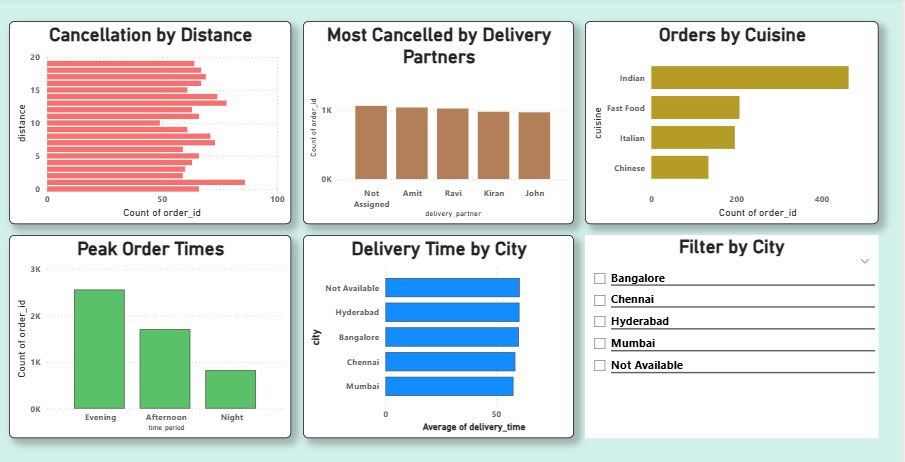

Layout of this report page (visuals, bound fields, positions):
{"tool":"powerbi","page":{"name":"Operational Insights","canvas":[1280,720],"ordinal":1},"visuals":[{"type":"barChart","title":"Cancellation by Distance","fields":{"Category":["food_delivery_master.distance"],"Y":["CountNonNull(food_delivery_master.order_id)"]},"box":[16,32,400,288],"z":0},{"type":"clusteredColumnChart","title":"Most Cancelled by Delivery Partners","fields":{"Category":["food_delivery_master.delivery_partner"],"Y":["CountNonNull(food_delivery_master.order_id)"]},"box":[432,32,384,288],"z":1000},{"type":"columnChart","title":"Peak Order Times","fields":{"Y":["CountNonNull(food_delivery_master.order_id)"],"Category":["food_delivery_master.time_period"]},"box":[16,336,400,288],"z":2000},{"type":"barChart","title":"Delivery Time by City","fields":{"Category":["food_delivery_master.city"],"Y":["Avg(food_delivery_master.delivery_time)"]},"box":[432,336,384,288],"z":3000},{"type":"clusteredBarChart","title":"Orders by Cuisine","fields":{"Category":["food_delivery_master.cuisine"],"Y":["CountNonNull(food_delivery_master.order_id)"]},"box":[832,32,416,288],"z":4000},{"type":"slicer","title":"Filter by City","fields":{"Values":["food_delivery_master.city"]},"box":[832,336,416,288],"z":5000}]}

Visuals, with their boxes on the page's 1280x720 design canvas (x1, y1, x2, y2). These are canvas units, not pixel positions in the 905x462 screenshot, which may show the page scaled, cropped or inside an application window:
"Cancellation by Distance" barChart: [x1=16, y1=32, x2=416, y2=320]
"Most Cancelled by Delivery Partners" clusteredColumnChart: [x1=432, y1=32, x2=816, y2=320]
"Peak Order Times" columnChart: [x1=16, y1=336, x2=416, y2=624]
"Delivery Time by City" barChart: [x1=432, y1=336, x2=816, y2=624]
"Orders by Cuisine" clusteredBarChart: [x1=832, y1=32, x2=1248, y2=320]
"Filter by City" slicer: [x1=832, y1=336, x2=1248, y2=624]
